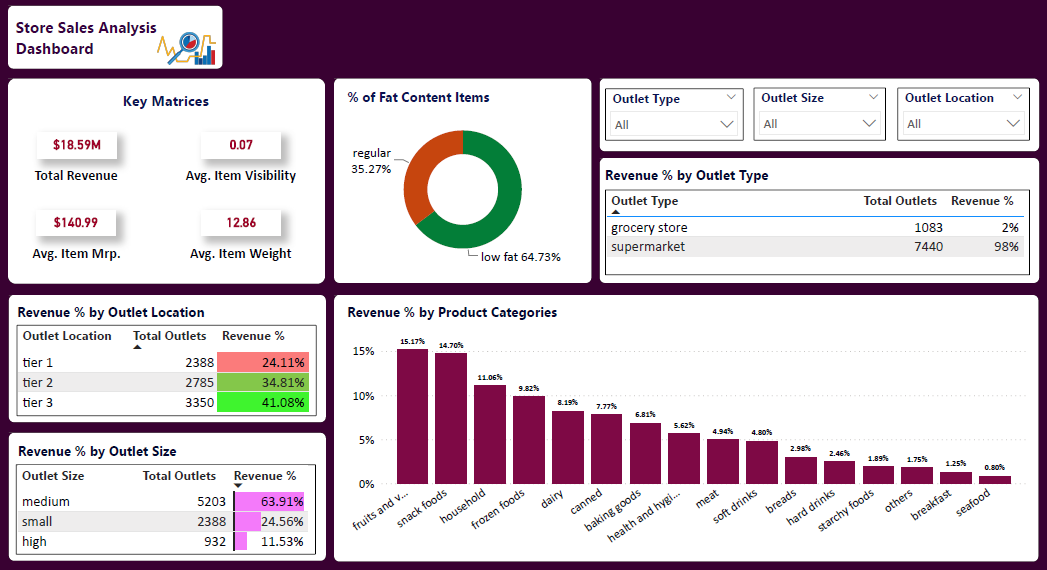

This screenshot's page, from the dashboard's own definition file:
{"tool":"powerbi","page":{"name":"Dashboard","canvas":[1370,750],"ordinal":0},"visuals":[{"type":"shape","box":[11.3,11.3,280.4,81.7],"z":0,"group":"g1"},{"type":"shape","box":[11.3,105.7,414.2,267.7],"z":0,"group":"g4"},{"type":"shape","box":[783.8,105.7,573.9,95.4],"z":0,"group":"g6"},{"type":"shape","box":[11.6,389.3,414.2,166.3],"z":0,"group":"g2"},{"type":"shape","box":[11.7,569.5,413.9,167.3],"z":0,"group":"g9"},{"type":"shape","box":[21,21,197.6,61],"z":1000,"group":"g1"},{"type":"shape","box":[437.4,105.7,336.1,267.1],"z":1000,"group":"g5"},{"type":"shape","box":[143.7,117,147.9,35.2],"z":1000,"group":"g4"},{"type":"tableEx","fields":{"Values":["new_train.outlet_size_mode","Important Measures.count of outlet_size","Important Measures.revenue % by outler_size"]},"box":[20.5,610.6,391.9,117.4],"z":1000,"group":"g9"},{"type":"image","box":[195.7,41.5,96.2,51.9],"z":2000,"group":"g1"},{"type":"shape","box":[783.8,209.9,573.9,162.9],"z":2000,"group":"g8"},{"type":"shape","box":[29.4,210.3,142.3,40.9],"z":2000,"group":"g4"},{"type":"shape","box":[23.4,576.8,258.3,30.8],"z":2000,"group":"g9"},{"type":"group","id":"g1","title":"Group 1","box":[11.3,11.3,280.6,82.1],"z":3000},{"type":"card","fields":{"Values":["Important Measures.total revenue"]},"box":[49.9,176.2,102.7,33.8],"z":3000,"group":"g4"},{"type":"tableEx","title":"Revenue % by Outlet Location","fields":{"Values":["new_train.outlet_location_type","Important Measures.count of outlet location","Important Measures.revenue % by outlet_location"]},"box":[21.5,428.8,391.7,118.4],"z":3000,"group":"g2"},{"type":"card","fields":{"Values":["Important Measures.avg visibility"]},"box":[264.2,176.2,102.7,33.8],"z":4000,"group":"g4"},{"type":"group","id":"g2","title":"Group 3","box":[11.6,389.3,414.2,166.3],"z":4000},{"type":"shape","box":[218.2,210.3,194.4,40.9],"z":5000,"group":"g4"},{"type":"group","id":"g3","title":"Group 4","box":[11.7,569.5,413.9,167.3],"z":5000},{"type":"tableEx","title":"Revenue % by Outlet Location","fields":{"Values":["new_train.outlet_type","Important Measures.count of outlet_size","Important Measures.revenue % by outlet_type"]},"box":[791.1,251,554.8,111.5],"z":6000,"group":"g8"},{"type":"shape","box":[218.7,311.2,193.7,45.5],"z":6000,"group":"g4"},{"type":"shape","box":[22.9,394.9,260.7,31],"z":6002,"group":"g2"},{"type":"group","id":"g4","title":"Group 2","box":[11.3,105.7,414.2,267.7],"z":7000},{"type":"card","fields":{"Values":["Important Measures.avg item_weight"]},"box":[264.2,277.4,102.7,33.8],"z":7000,"group":"g4"},{"type":"donutChart","title":"% of Fat Content Items","fields":{"Category":["new_train.item_fat_content"],"Y":["Important Measures.count of item_fat_content"]},"box":[449.1,117.4,312.6,243.6],"z":8000,"group":"g5"},{"type":"shape","box":[29.6,311.4,142.3,45.1],"z":8000,"group":"g4"},{"type":"card","fields":{"Values":["Important Measures.avg item_mrp"]},"box":[48.5,277.4,102.7,33.8],"z":9000,"group":"g4"},{"type":"shape","box":[437.4,388.9,920.3,347.8],"z":9000,"group":"g7"},{"type":"shape","box":[790.5,213.9,260.1,31.8],"z":10000,"group":"g8"},{"type":"clusteredColumnChart","title":"Revenue % by Product Categories","fields":{"Category":["new_train.item_type"],"Y":["Important Measures.revenue % by items categories"]},"box":[449.1,399.2,896.8,328.8],"z":11000,"group":"g7"},{"type":"slicer","fields":{"Values":["new_train.outlet_type"]},"box":[791.1,118.9,180.5,67.5],"z":12000,"group":"g6"},{"type":"slicer","fields":{"Values":["new_train.outlet_size_mode"]},"box":[984.9,117.4,173.2,69],"z":12001,"group":"g6"},{"type":"slicer","fields":{"Values":["new_train.outlet_location_type"]},"box":[1172.7,117.4,173.2,69],"z":12002,"group":"g6"},{"type":"group","id":"g5","title":"Group 5","box":[437.4,105.7,336.1,267.1],"z":12003},{"type":"group","id":"g6","title":"Group 6","box":[783.8,105.7,573.9,95.4],"z":12004},{"type":"group","id":"g7","title":"Group 8","box":[437.4,388.9,920.3,347.8],"z":12006},{"type":"group","id":"g8","title":"Group 7","box":[783.8,209.9,573.9,162.9],"z":12007},{"type":"group","id":"g9","title":"Group 9","box":[11.7,569.5,413.9,167.3],"z":12007,"group":"g3"}]}

Visuals, with their boxes in screenshot pixels (x1, y1, x2, y2), scaled from the page's 1370x750 canvas onto the 1047x570 screenshot:
shape: crop(9, 9, 223, 71)
shape: crop(9, 80, 325, 284)
shape: crop(599, 80, 1038, 153)
shape: crop(9, 296, 325, 422)
shape: crop(9, 433, 325, 560)
shape: crop(16, 16, 167, 62)
shape: crop(334, 80, 591, 283)
shape: crop(110, 89, 223, 116)
tableEx - new_train.outlet_size_mode x Important Measures.count of outlet_size: crop(16, 464, 315, 553)
image: crop(150, 32, 223, 71)
shape: crop(599, 160, 1038, 283)
shape: crop(22, 160, 131, 191)
shape: crop(18, 438, 215, 462)
"Group 1" group: crop(9, 9, 223, 71)
card - Important Measures.total revenue: crop(38, 134, 117, 160)
"Revenue % by Outlet Location" tableEx: crop(16, 326, 316, 416)
card - Important Measures.avg visibility: crop(202, 134, 280, 160)
"Group 3" group: crop(9, 296, 325, 422)
shape: crop(167, 160, 315, 191)
"Group 4" group: crop(9, 433, 325, 560)
"Revenue % by Outlet Location" tableEx: crop(605, 191, 1029, 276)
shape: crop(167, 237, 315, 271)
shape: crop(18, 300, 217, 324)
"Group 2" group: crop(9, 80, 325, 284)
card - Important Measures.avg item_weight: crop(202, 211, 280, 237)
"% of Fat Content Items" donutChart: crop(343, 89, 582, 274)
shape: crop(23, 237, 131, 271)
card - Important Measures.avg item_mrp: crop(37, 211, 116, 237)
shape: crop(334, 296, 1038, 560)
shape: crop(604, 163, 803, 187)
"Revenue % by Product Categories" clusteredColumnChart: crop(343, 303, 1029, 553)
slicer - new_train.outlet_type: crop(605, 90, 743, 142)
slicer - new_train.outlet_size_mode: crop(753, 89, 885, 142)
slicer - new_train.outlet_location_type: crop(896, 89, 1029, 142)
"Group 5" group: crop(334, 80, 591, 283)
"Group 6" group: crop(599, 80, 1038, 153)
"Group 8" group: crop(334, 296, 1038, 560)
"Group 7" group: crop(599, 160, 1038, 283)
"Group 9" group: crop(9, 433, 325, 560)
